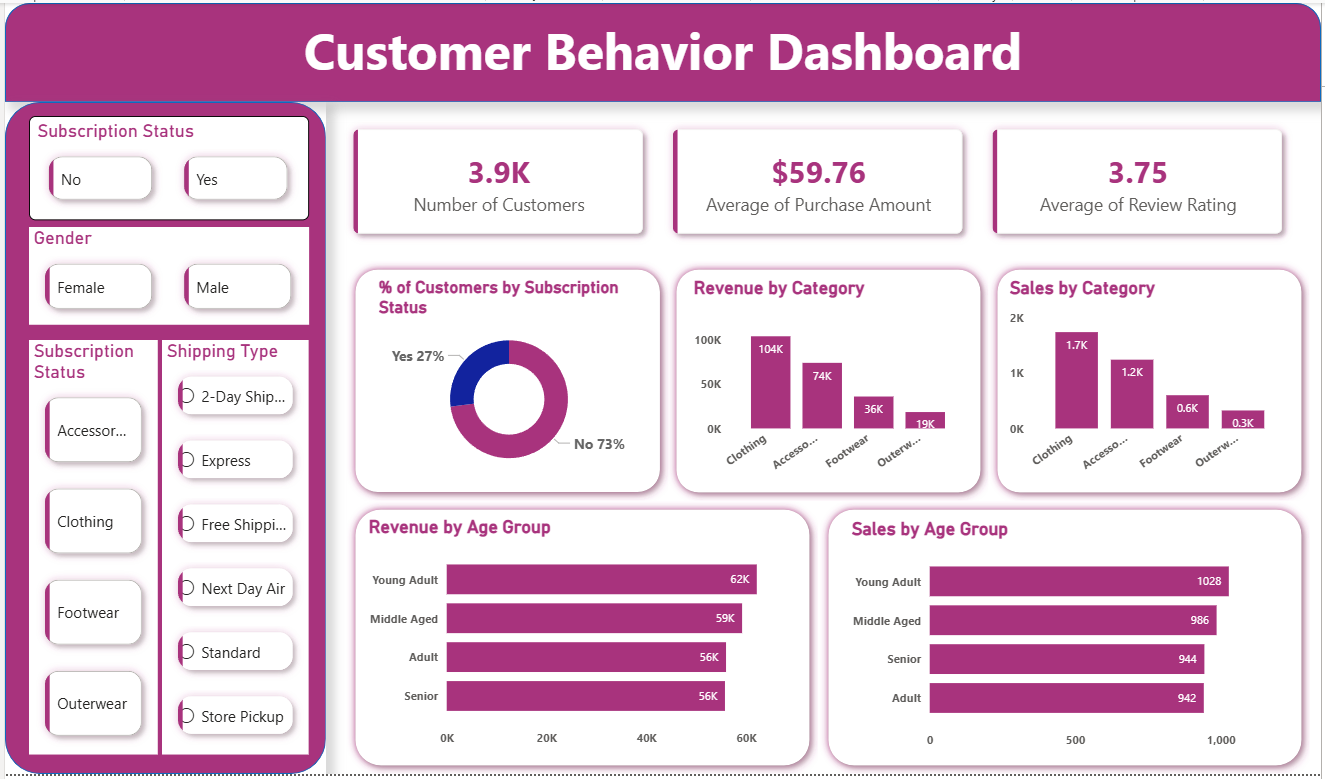

The page's visual inventory and layout, read from the dashboard file:
{"tool":"powerbi","page":{"name":"Page 1","canvas":[1400,820],"ordinal":0},"visuals":[{"type":"cardVisual","fields":{"Data":["public customer.Number of Customers","public customer.Average of Purchase Amount","public customer.Average of Review Rating"]},"box":[341.5,105.3,1046.8,169.1],"z":0},{"type":"shape","box":[0,0,1400,105.3],"z":1000},{"type":"textbox","box":[0,8.5,1400,88.3],"z":2000},{"type":"shape","box":[363.9,274.7,341.9,254.8],"z":3000},{"type":"donutChart","title":"% of Customers by Subscription Status","fields":{"Y":["CountNonNull(public customer.customer_id)"],"Category":["public customer.subscription_status"],"Series":["public customer.subscription_status"]},"box":[392.6,291.5,287.2,218.1],"z":4000},{"type":"shape","box":[705.5,274.5,341.5,255.3],"z":5000},{"type":"shape","box":[1046.8,274.5,341.5,255.3],"z":6000},{"type":"clusteredColumnChart","title":"Revenue by Category","fields":{"Y":["Sum(public customer.purchase_amount)"],"Category":["public customer.category"]},"box":[727.7,291.5,301.1,218.1],"z":7000},{"type":"clusteredColumnChart","title":"Sales by Category","fields":{"Y":["CountNonNull(public customer.customer_id)"],"Category":["public customer.category"]},"box":[1063.8,291.5,306.4,218.1],"z":8000},{"type":"shape","box":[0,105.3,341.5,714.9],"z":9000},{"type":"advancedSlicerVisual","title":"Subscription Status","fields":{"Values":["public customer.subscription_status"]},"box":[25.5,120.2,297.9,110.6],"z":10000},{"type":"advancedSlicerVisual","title":"Gender","fields":{"Values":["public customer.gender"]},"box":[25.5,238.3,297.9,104.3],"z":11000},{"type":"advancedSlicerVisual","title":"Subscription Status","fields":{"Values":["public customer.category"]},"box":[25.5,358.5,137.2,441.5],"z":12000},{"type":"listSlicer","title":"Shipping Type","fields":{"Values":["public customer.shipping_type"]},"box":[167,358.5,156.4,441.5],"z":13000},{"type":"shape","box":[363.8,529.8,501.1,290.4],"z":14000},{"type":"clusteredBarChart","title":"Revenue by Age Group","fields":{"Y":["Sum(public customer.purchase_amount)"],"Category":["public customer.age_group"]},"box":[381.9,545.7,462.8,254.3],"z":15000},{"type":"shape","box":[867,529.8,521.3,290.4],"z":16000},{"type":"clusteredBarChart","title":"Sales by Age Group","fields":{"Y":["CountNonNull(public customer.customer_id)"],"Category":["public customer.age_group"]},"box":[895.7,547.9,462.8,254.3],"z":17000}]}

Visuals, with their boxes in screenshot pixels (x1, y1, x2, y2), scaled from the page's 1400x820 canvas onto the 1325x779 screenshot:
cardVisual - public customer.Number of Customers x public customer.Average of Purchase Amount: left=323, top=100, right=1314, bottom=261
shape: left=0, top=0, right=1324, bottom=100
textbox: left=0, top=8, right=1324, bottom=92
shape: left=344, top=261, right=668, bottom=503
"% of Customers by Subscription Status" donutChart: left=372, top=277, right=643, bottom=484
shape: left=668, top=261, right=991, bottom=503
shape: left=991, top=261, right=1314, bottom=503
"Revenue by Category" clusteredColumnChart: left=689, top=277, right=974, bottom=484
"Sales by Category" clusteredColumnChart: left=1007, top=277, right=1297, bottom=484
shape: left=0, top=100, right=323, bottom=778
"Subscription Status" advancedSlicerVisual: left=24, top=114, right=306, bottom=219
"Gender" advancedSlicerVisual: left=24, top=226, right=306, bottom=325
"Subscription Status" advancedSlicerVisual: left=24, top=341, right=154, bottom=760
"Shipping Type" listSlicer: left=158, top=341, right=306, bottom=760
shape: left=344, top=503, right=819, bottom=778
"Revenue by Age Group" clusteredBarChart: left=361, top=518, right=799, bottom=760
shape: left=821, top=503, right=1314, bottom=778
"Sales by Age Group" clusteredBarChart: left=848, top=521, right=1286, bottom=762
